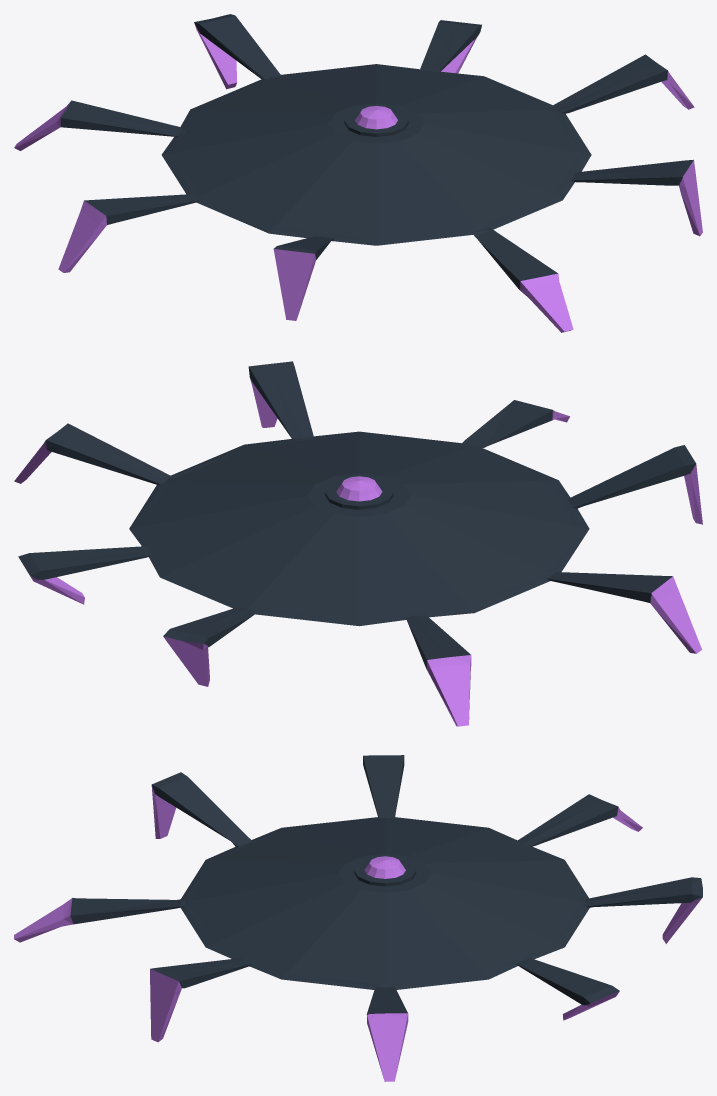
Rendered from Spider_Walk_000023.obj.
3 renders of one model, top to bottom at view 1: azimuth 30°, elevation 25°; view 2: azimuth 150°, elevation 25°; view 3: azimuth 270°, elevation 25°, orthographic. The views are drawn at different scales.
Parts seen in each view (by area): view 1: Circle_Circle.001; view 2: Circle_Circle.001; view 3: Circle_Circle.001.
Boxes of the visible parts, left/top/right/bottom form: Circle_Circle.001: left=14, top=14, right=702, bottom=332; Circle_Circle.001: left=14, top=361, right=702, bottom=726; Circle_Circle.001: left=14, top=755, right=702, bottom=1081.
Bounding box in the file's own units: 3.41 × 0.447 × 3.32.
